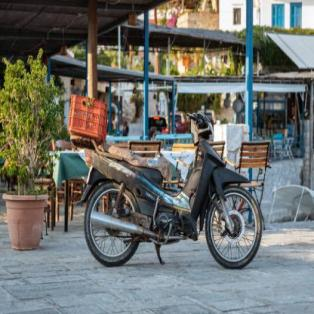Motocicleta: (64, 94, 265, 275)
